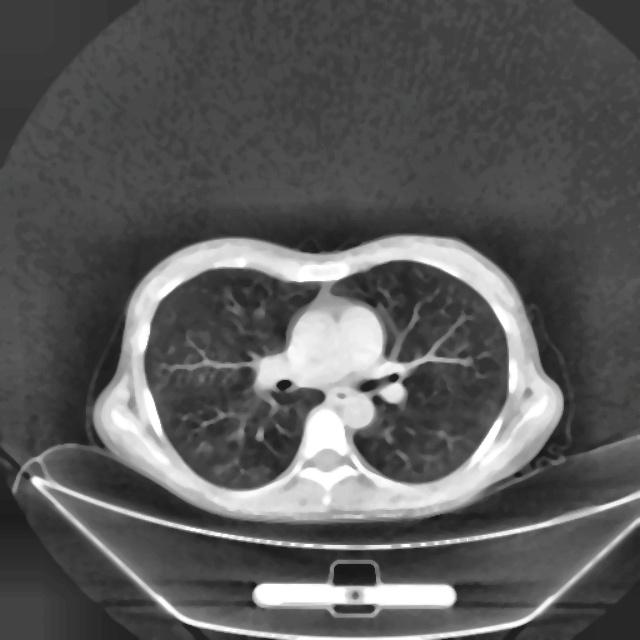covid: (90, 232, 565, 524)
